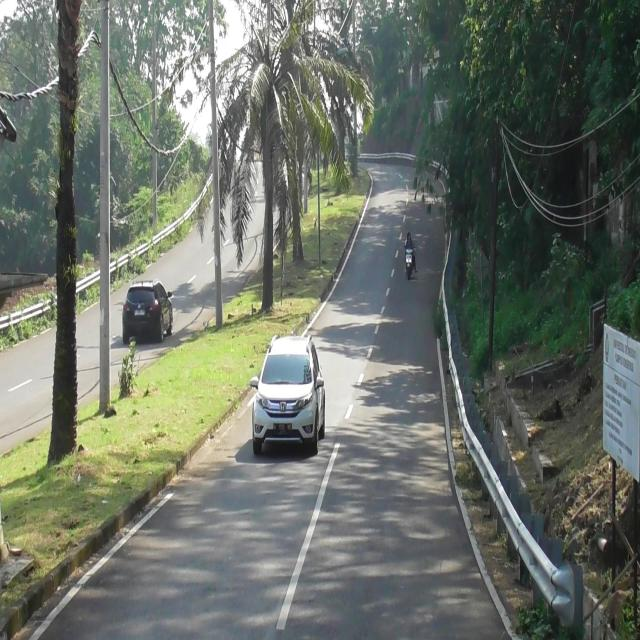motorcycle: (405, 246, 415, 278)
person: (406, 236, 415, 256)
rider_region: (404, 234, 416, 282)
